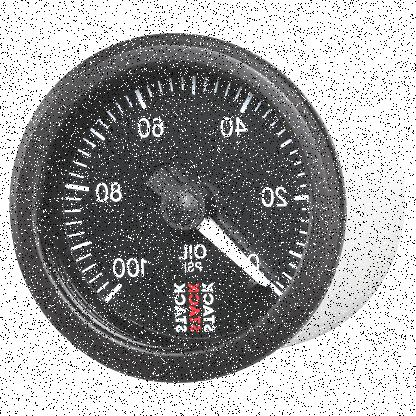needle: (195, 214, 271, 290)
